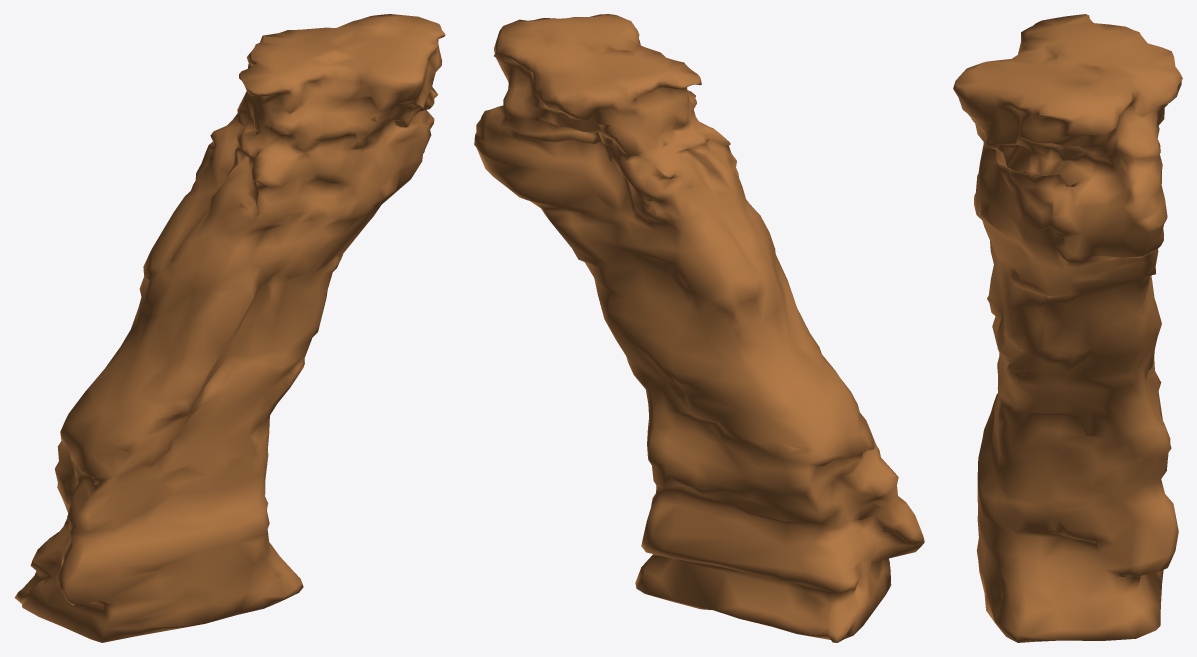
The model's file is MSH_Rocks_Cliff_20_b.FBX.
3 views of the same model, side by side, from view 1: azimuth 30°, elevation 25°; view 2: azimuth 150°, elevation 25°; view 3: azimuth 270°, elevation 25° (orthographic). The views are drawn at different scales.
Parts seen in each view (by area): view 1: MESH_LOD0; view 2: MESH_LOD0; view 3: MESH_LOD0.
Part boxes in pixels (box(x1,y1,x2,y2)): MESH_LOD0: box(14, 14, 445, 642); MESH_LOD0: box(474, 14, 924, 642); MESH_LOD0: box(953, 14, 1182, 642).
Size of what is drawn, in the model's own units: 557 by 685 by 226.
